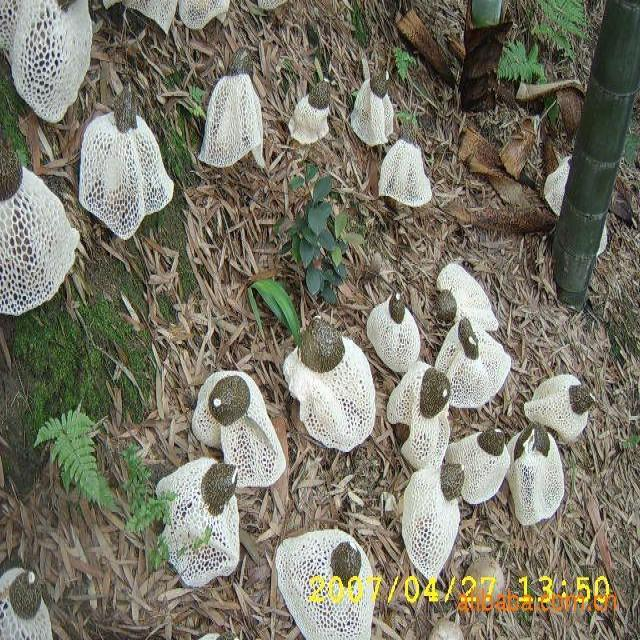Dictyophora indusiate: (0, 143, 83, 313), (70, 106, 175, 239), (287, 322, 377, 449), (156, 455, 242, 586), (276, 526, 375, 637), (194, 371, 289, 485), (0, 0, 94, 115), (204, 50, 272, 169), (401, 465, 465, 578), (430, 324, 514, 408), (389, 362, 454, 461), (509, 430, 568, 524), (433, 263, 505, 331), (379, 124, 434, 207), (524, 371, 594, 436), (451, 430, 510, 506), (0, 567, 56, 633), (372, 297, 421, 365), (353, 77, 398, 144), (289, 81, 333, 145)
